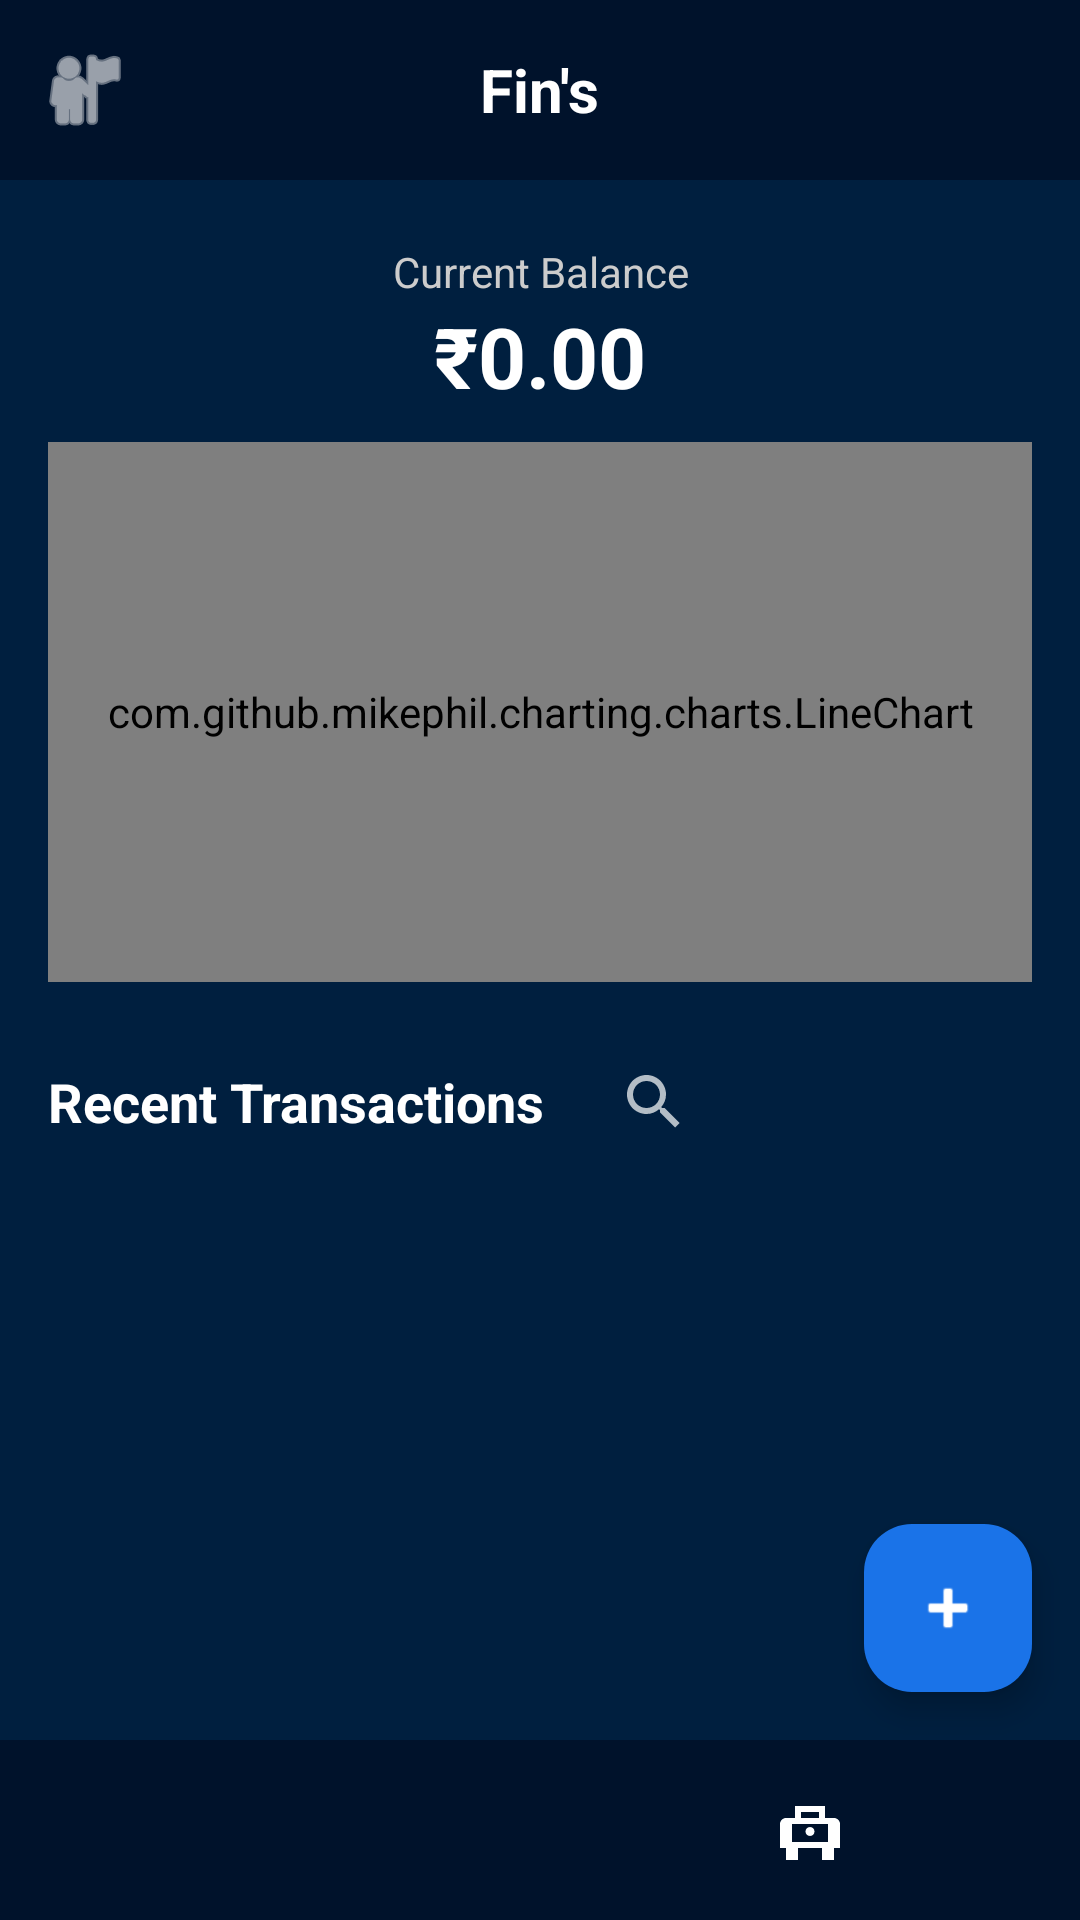

Point at icon controls on the screen. Image size 1080w x 1920h, points as [x,y].
add: [948,1608]
Profile: [85,90]
